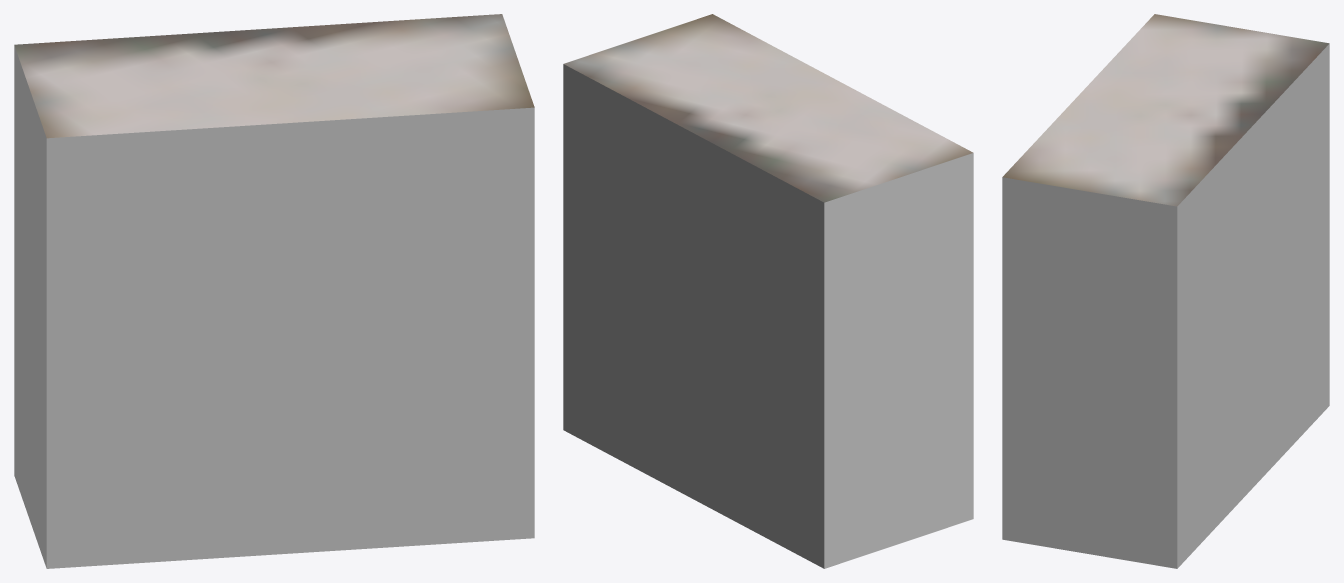
The model's file is DEBW_0010007THZg.gltf.
3 views of the same model, side by side, from view 1: azimuth 30°, elevation 25°; view 2: azimuth 150°, elevation 25°; view 3: azimuth 270°, elevation 25° (orthographic). The views are drawn at different scales.
Visible parts, largest first — view 1: Z_UP; view 2: Z_UP; view 3: Z_UP.
Part boxes in pixels (box(x1,y1,x2,y2)): Z_UP: box(14, 14, 534, 568); Z_UP: box(563, 14, 973, 568); Z_UP: box(1002, 14, 1329, 568).
Size of the model in its own units: 3.41 by 2.99 by 2.45.
2 materials, 1 textured.
